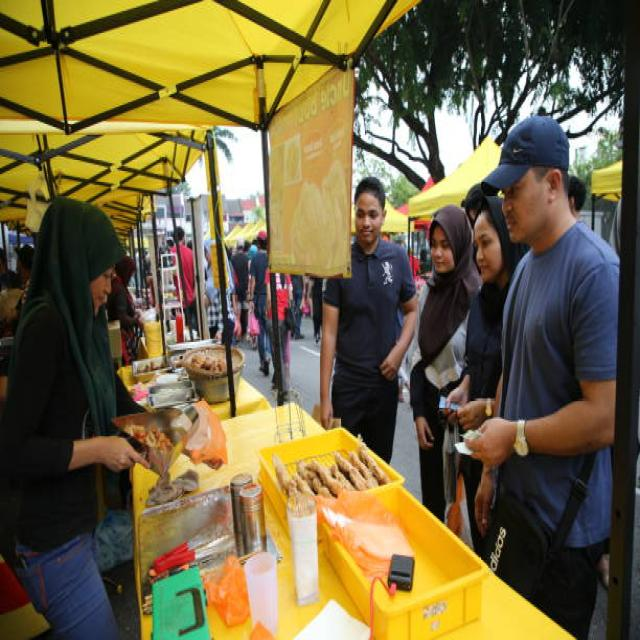Emperan: (101, 324, 489, 640)
